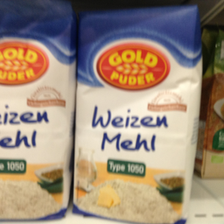flour: (72, 4, 203, 224), (1, 1, 76, 224)
